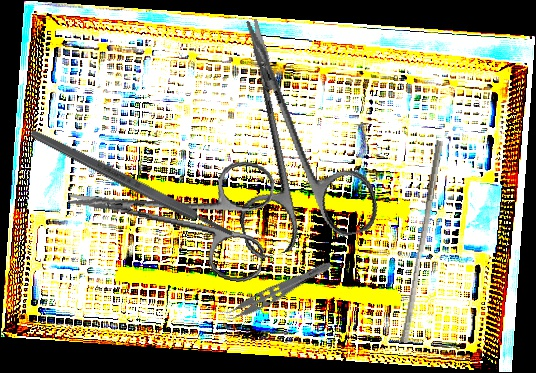Iris Scissors: (190, 1, 383, 262), (59, 135, 278, 285)
Pusher: (399, 138, 444, 345)
Scalpel Handle: (27, 125, 236, 241)
Tissue Forceps: (218, 251, 334, 328)
